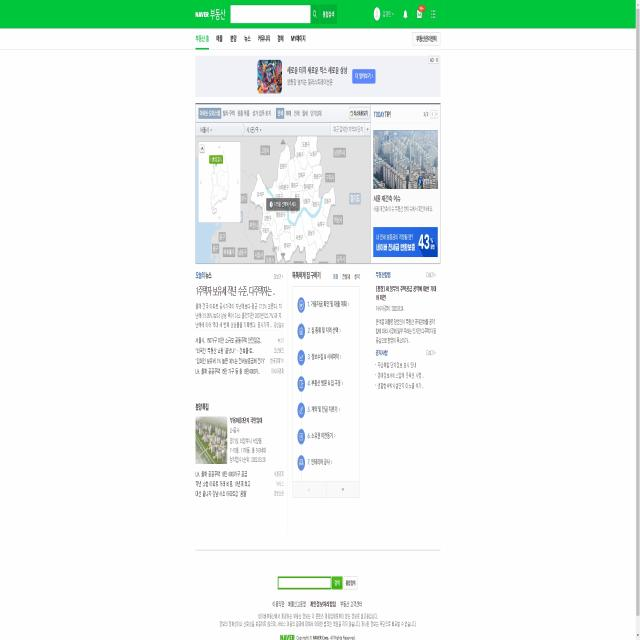menu-bar: (372, 4, 442, 29)
search: (229, 4, 321, 26), (276, 574, 342, 590)
tab-bar: (196, 105, 324, 122), (194, 31, 308, 47)
